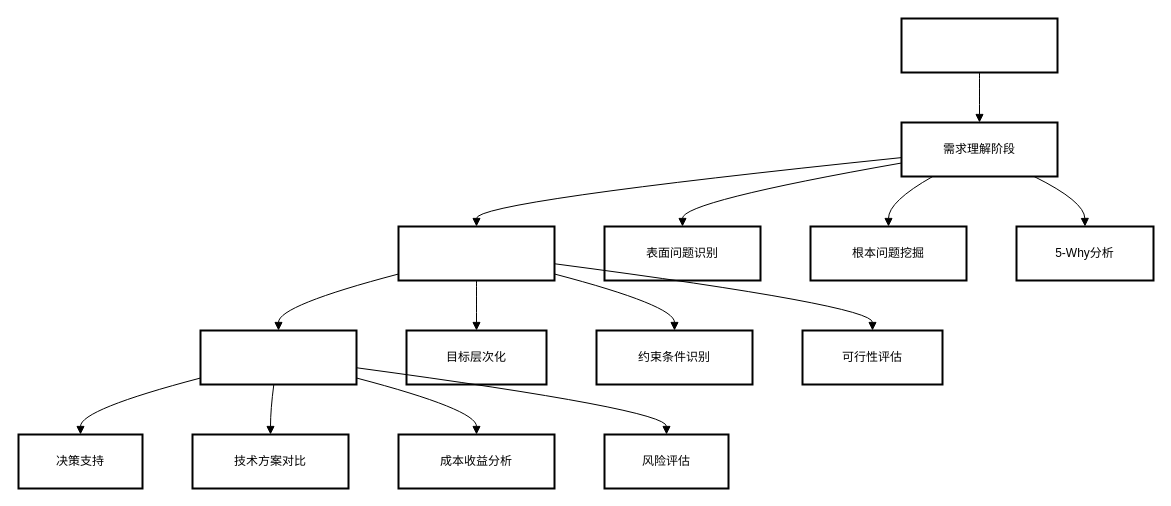
Image size: 1171x506. Some labels were removed from this diagram. The centre of each missing label's shape, as x and y in pixels:
"方案设计阶段" belongs at point 278,357.
"用户初始需求" belongs at point 979,45.
"目标澄清阶段" belongs at point 476,253.
